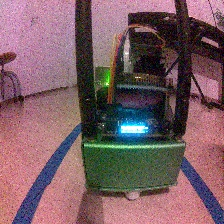rob: (79, 42, 186, 202)
